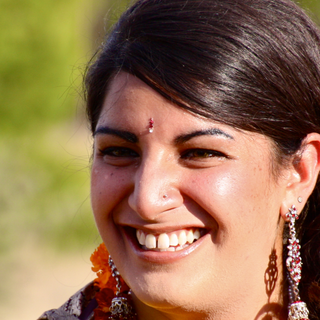eye: (175, 143, 230, 166), (97, 140, 142, 165)
